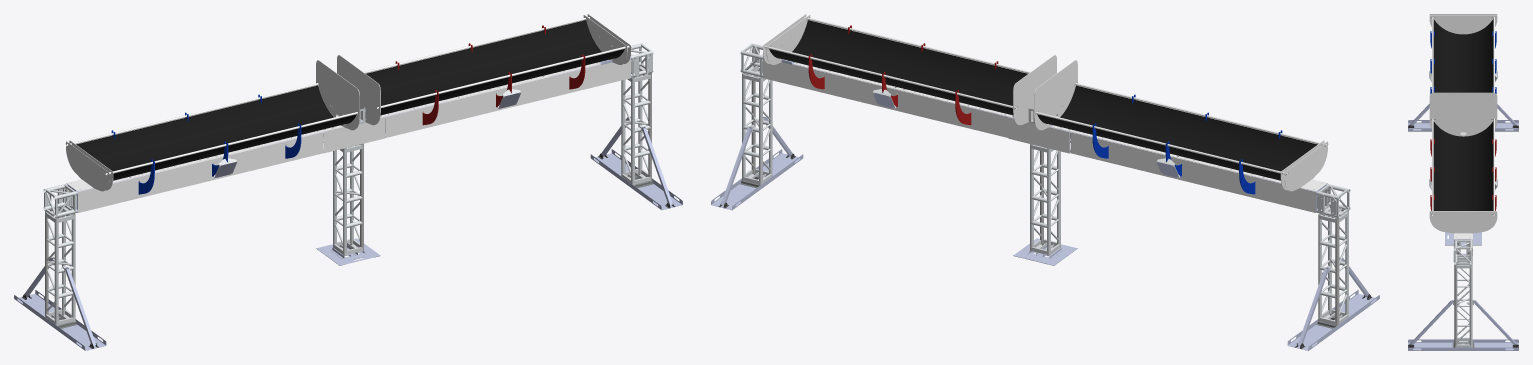
3 views of the same model, side by side, from view 1: azimuth 30°, elevation 25°; view 2: azimuth 150°, elevation 25°; view 3: azimuth 270°, elevation 25° (orthographic). The views are drawn at different scales.
Parts seen in each view (by area): view 1: Solid1.052, Solid1.051, Solid1.094, Solid1.320, Solid1.300, Solid1.092, Solid1.297, Solid1.081, Solid1.132, Solid1.301, Solid1.319, Solid1.321 (+7 smaller); view 2: Solid1.052, Solid1.051, Solid1.094, Solid1.314, Solid1.306, Solid1.092, Solid1.081, Solid1.323, Solid1.307, Solid1.312, Solid1.313, Solid1.132 (+7 smaller); view 3: Solid1.051, Solid1.052, Solid1.092, Solid1.295, Solid1.081, Solid1.095, Solid1.094, Solid1.132, Solid7.002, Solid8.002, Solid1.151, Solid1.096 (+6 smaller).
Boxes of the visible parts, x1,y1,x2,y2 form: Solid1.052: [76, 85, 356, 180]; Solid1.051: [366, 20, 624, 115]; Solid1.094: [316, 60, 359, 130]; Solid1.320: [139, 159, 212, 197]; Solid1.300: [423, 90, 496, 128]; Solid1.092: [337, 55, 380, 125]; Solid1.297: [323, 117, 385, 153]; Solid1.081: [590, 149, 682, 210]; Solid1.132: [14, 290, 106, 350]; Solid1.301: [496, 72, 569, 110]; Solid1.319: [212, 141, 285, 179]; Solid1.321: [78, 177, 139, 212]; Solid1.052: [1037, 85, 1317, 180]; Solid1.051: [769, 20, 1027, 115]; Solid1.094: [1034, 60, 1077, 130]; Solid1.314: [1181, 159, 1254, 197]; Solid1.306: [897, 90, 970, 128]; Solid1.092: [1013, 55, 1056, 125]; Solid1.081: [711, 149, 803, 210]; Solid1.323: [1008, 117, 1069, 153]; Solid1.307: [824, 72, 897, 110]; Solid1.312: [1108, 141, 1181, 179]; Solid1.313: [1254, 177, 1315, 212]; Solid1.132: [1287, 290, 1379, 350]; Solid1.051: [1433, 121, 1493, 210]; Solid1.052: [1433, 19, 1493, 92]; Solid1.092: [1429, 100, 1497, 136]; Solid1.295: [1429, 212, 1497, 233]; Solid1.081: [1408, 339, 1518, 350]; Solid1.095: [1429, 15, 1497, 34]; Solid1.094: [1429, 92, 1497, 128]; Solid1.132: [1408, 120, 1518, 131]; Solid7.002: [1469, 264, 1472, 347]; Solid8.002: [1454, 264, 1457, 347]; Solid1.151: [1445, 232, 1481, 244]; Solid1.096: [1409, 300, 1454, 345].
Size of the model in its own units: 890 by 257 by 183.
